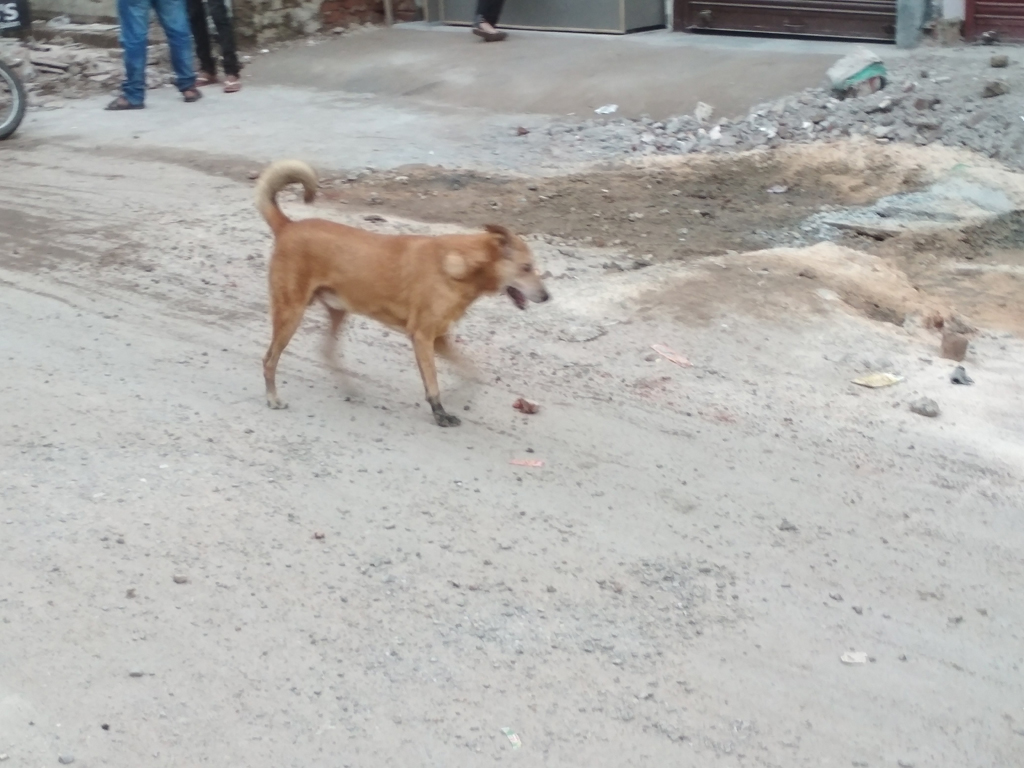dog: (253, 160, 552, 428)
